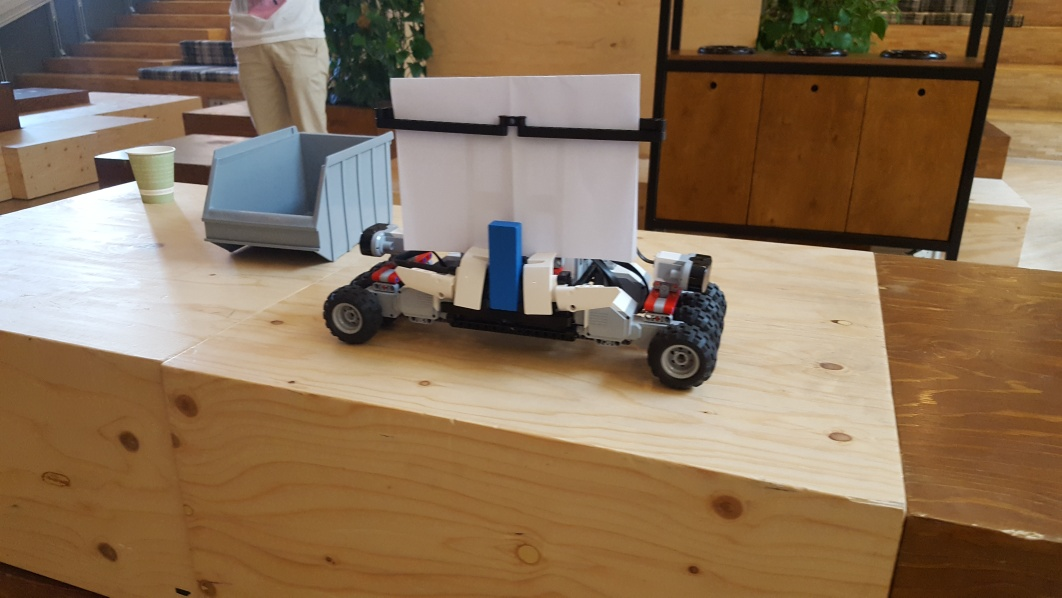car: (324, 73, 728, 394)
cup: (125, 144, 177, 204)
tray: (203, 126, 393, 262)
